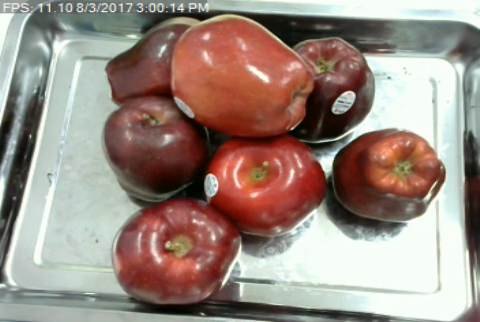Apple: (168, 10, 316, 138), (109, 195, 244, 306), (201, 131, 330, 238), (100, 94, 215, 205), (328, 124, 448, 225), (288, 33, 380, 143), (103, 10, 200, 104)
